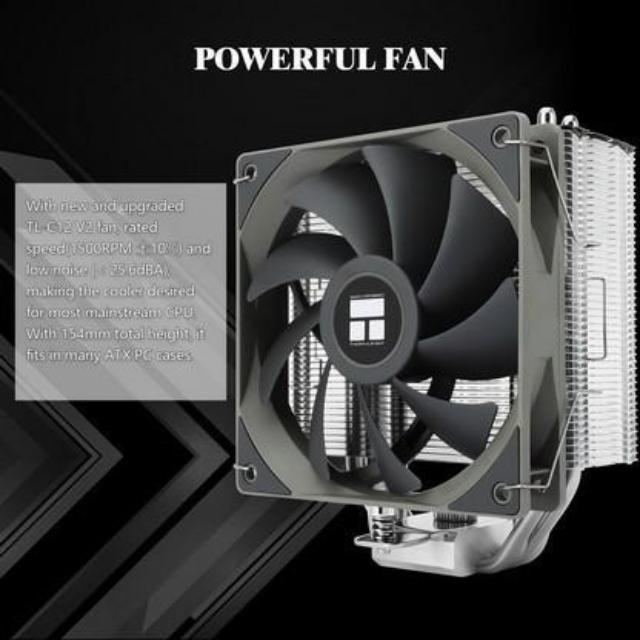CPU_Fan: (233, 108, 638, 580)
